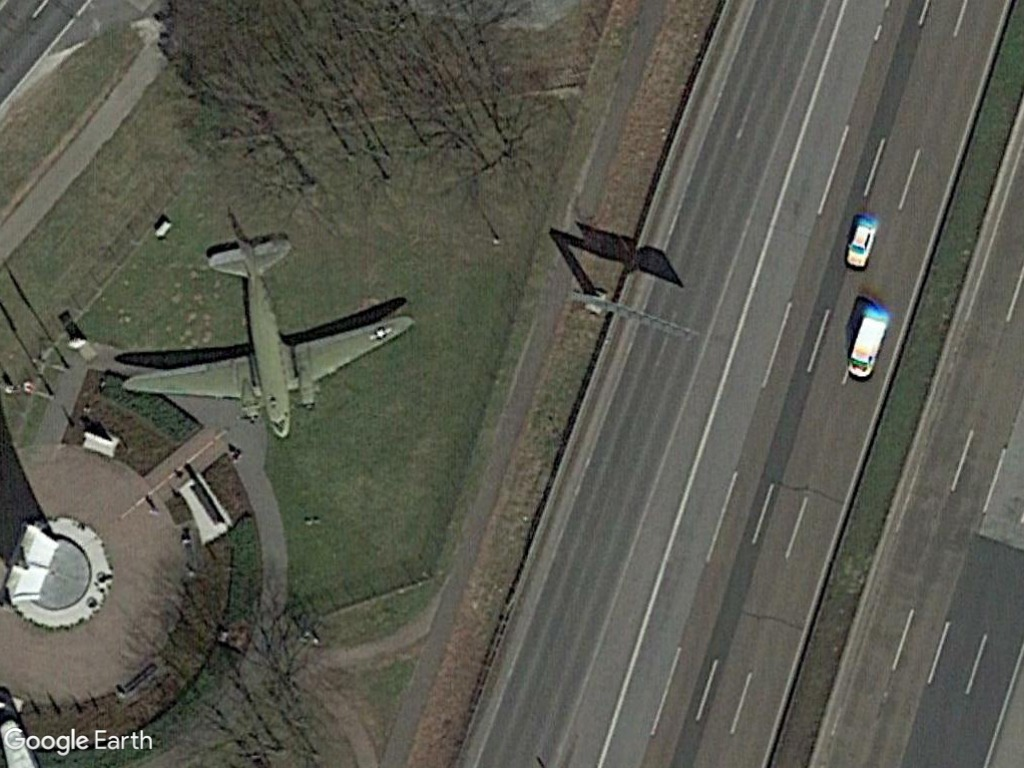car: (840, 221, 878, 275)
propeller: (96, 211, 435, 456)
van: (843, 311, 891, 384)
